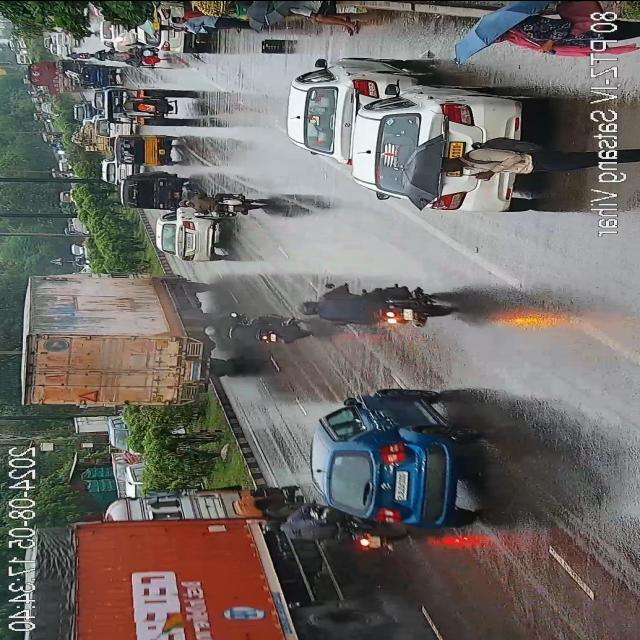2-wheelers: (284, 282, 456, 326), (266, 502, 414, 550), (205, 313, 317, 359), (164, 184, 274, 218), (62, 48, 96, 62)
auto: (115, 170, 193, 211), (108, 132, 190, 170), (77, 66, 125, 88)
car: (286, 382, 507, 527), (357, 92, 532, 214), (290, 62, 422, 156), (133, 2, 230, 66), (158, 208, 230, 266), (93, 419, 139, 453), (93, 20, 137, 54), (90, 162, 136, 186), (88, 116, 138, 138), (66, 102, 102, 122), (52, 30, 80, 48)
pedestrian: (405, 137, 620, 200), (437, 0, 587, 57), (268, 0, 372, 32), (235, 0, 308, 34), (162, 13, 244, 34), (160, 20, 217, 40)
truck: (59, 499, 369, 640), (10, 270, 215, 403), (28, 62, 74, 90)
